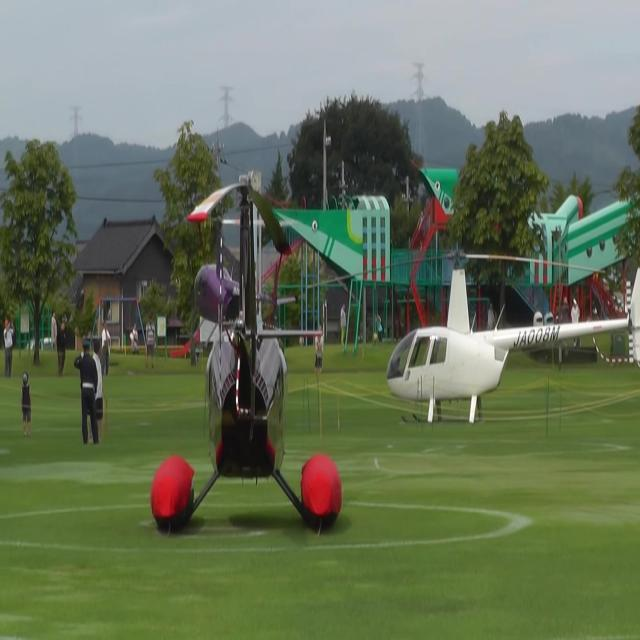CIV_HELO: (189, 213, 301, 358)
